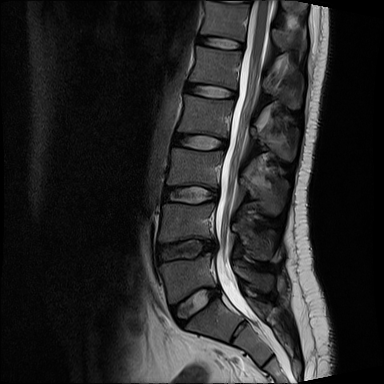Lumbar Disc Bulge (LDB): (163, 278, 230, 335), (151, 234, 226, 271)
Normal IVD: (154, 178, 223, 209), (165, 126, 232, 155), (180, 79, 242, 104), (189, 30, 249, 55)
Spinal Stenosis (SS): (204, 229, 226, 263), (208, 273, 226, 306)
